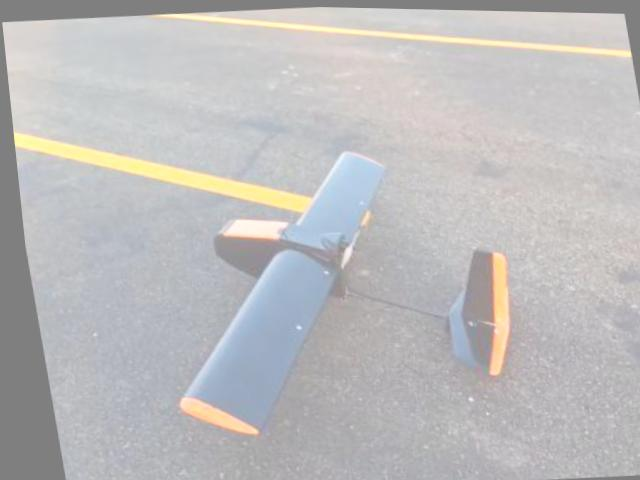uav: (107, 129, 543, 470)
